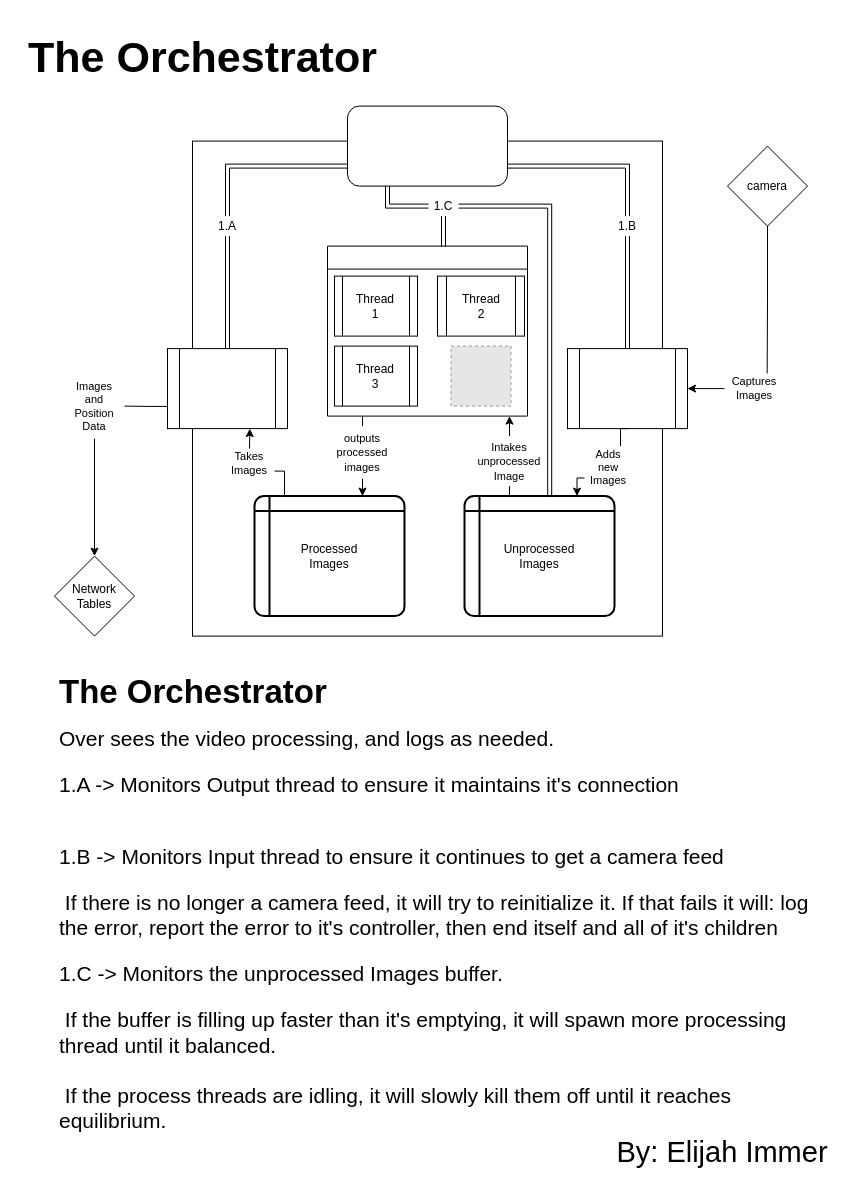
Some shapes in this 854 by 1194 pixel diagram are drawn without their labels. Grey dashed boxes stand in for pictures. Each missing label, with the box of its shape:
Capture Thread: (566, 348, 688, 429)
Orchestrator: (346, 105, 508, 186)
Output Thread: (166, 348, 288, 429)
Processing Threads: (326, 245, 528, 416)
